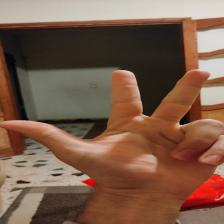three: (10, 69, 222, 182)
